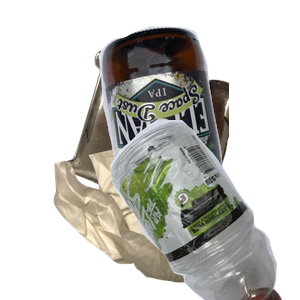glass: (97, 24, 300, 204)
metal: (60, 47, 300, 227)
plastic: (73, 120, 300, 300)
trash: (51, 142, 278, 300)
